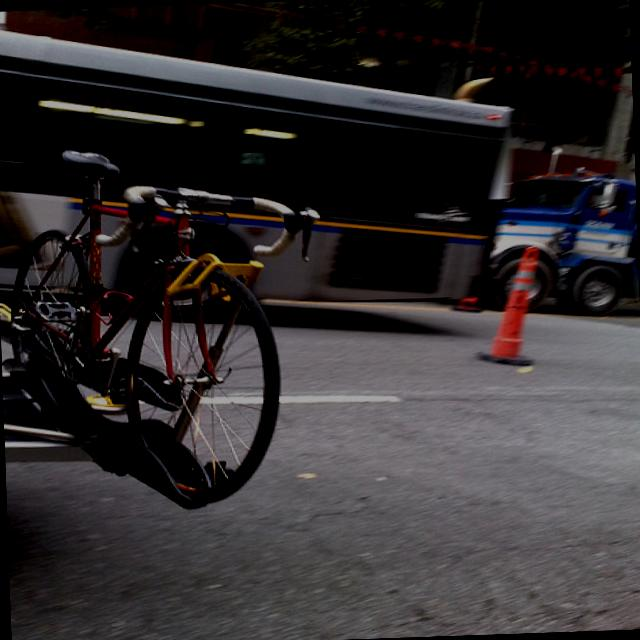Vehicle: (0, 0, 518, 315), (470, 142, 640, 323)
